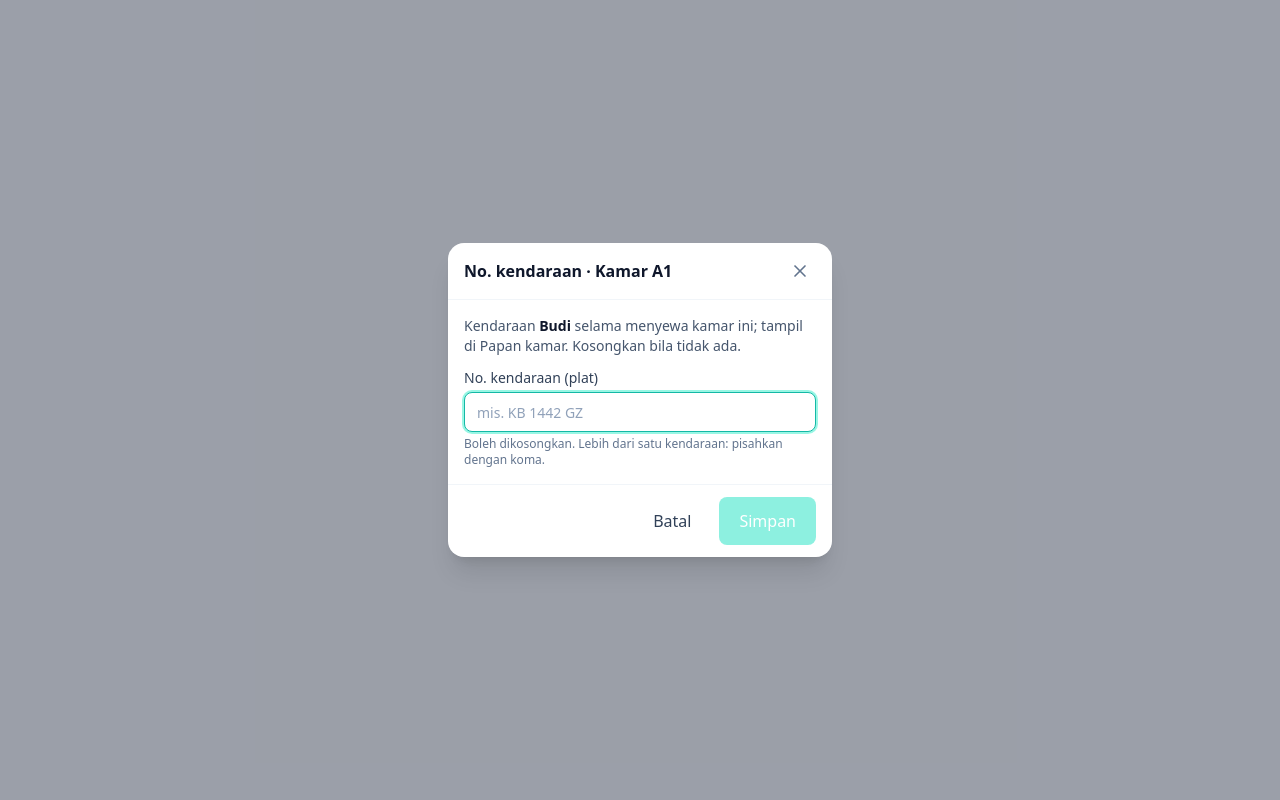
Test: VehiclePlateModal › saves what was typed as plates are written; Simpan waits for a real change
The width and height of the screenshot is (1280, 800).
Expected: the button "Simpan" is disabled, [719,497,816,545]
Type "kb1442gz" into the field labelled "No. kendaraan (plat)".
click(640, 412); type("kb1442gz")  # box [464,392,816,432]
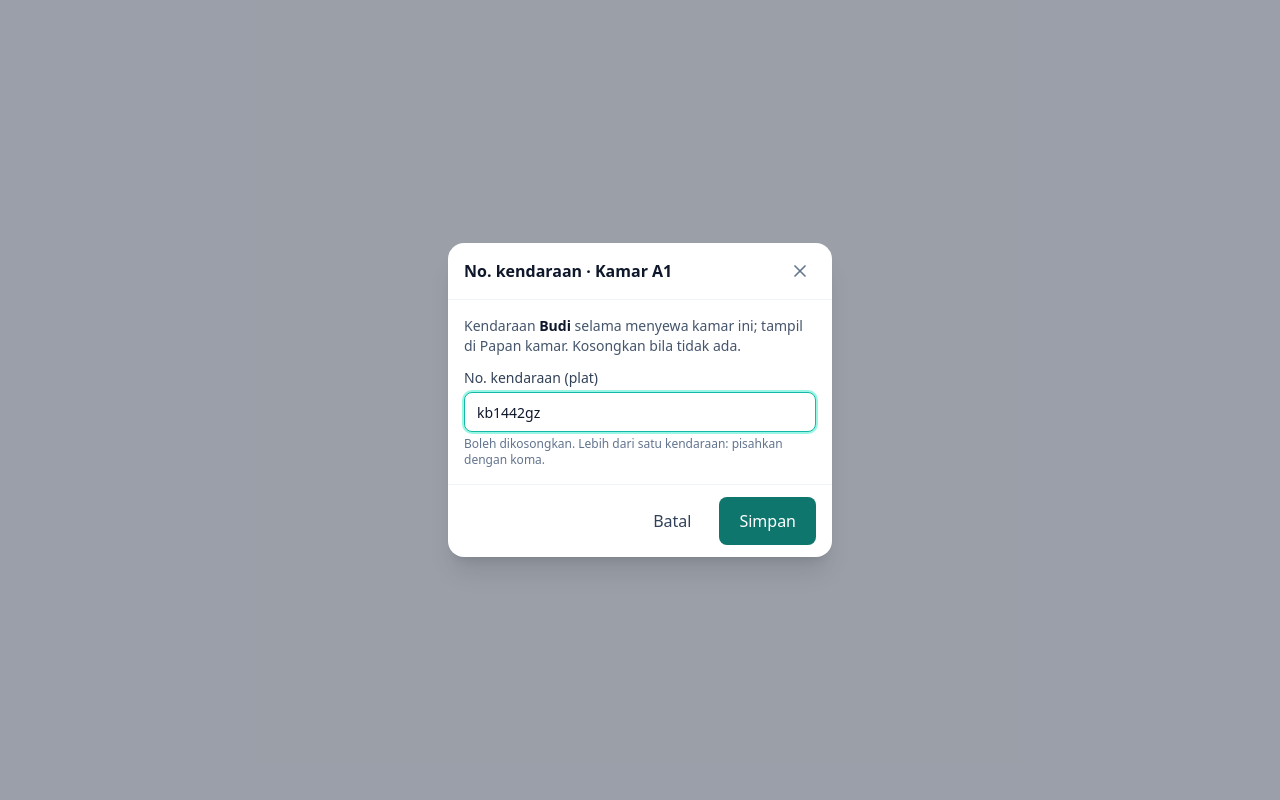
Now the button "Simpan" is enabled
# saved without leaving the field first: still written as a plate
Click the button "Simpan".
click(768, 521)  # box [719,497,816,545]
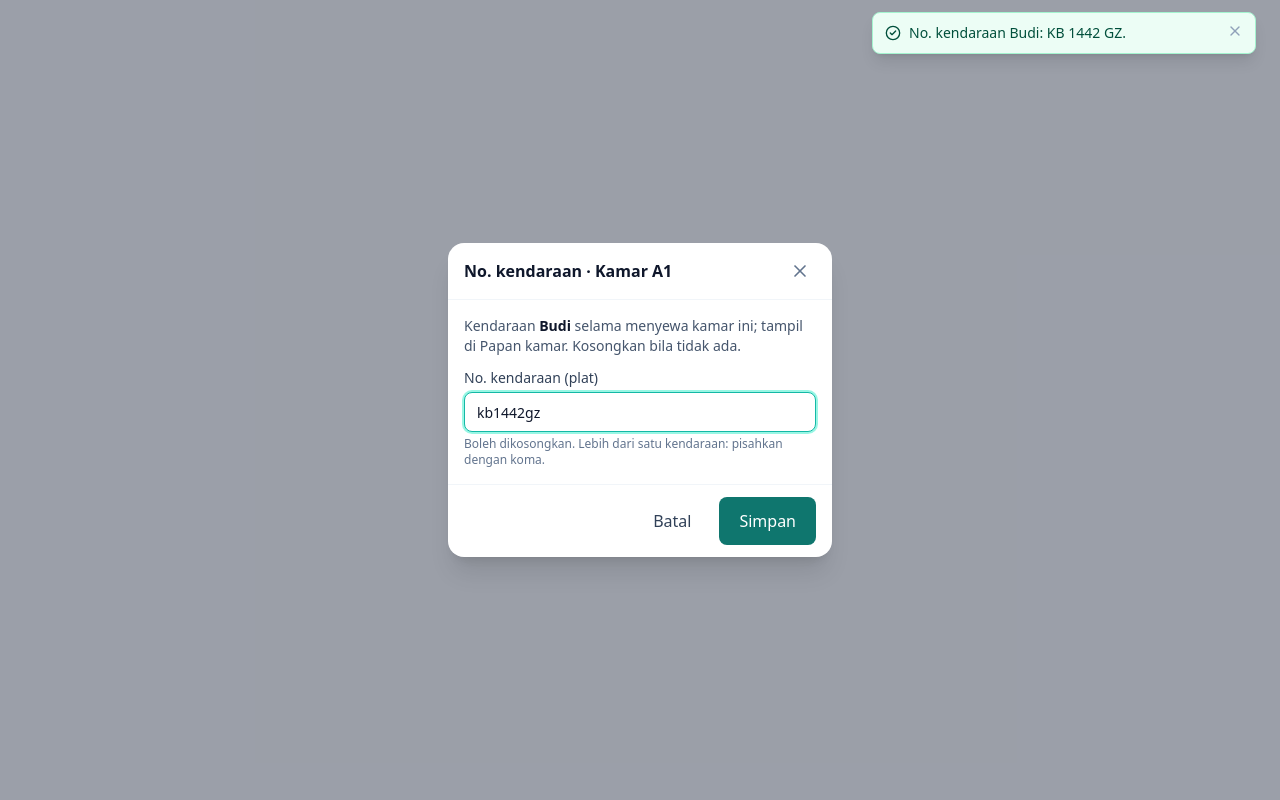
Now the text "No. kendaraan Budi: KB 1442 GZ." is shown, box [909,23,1126,42]
